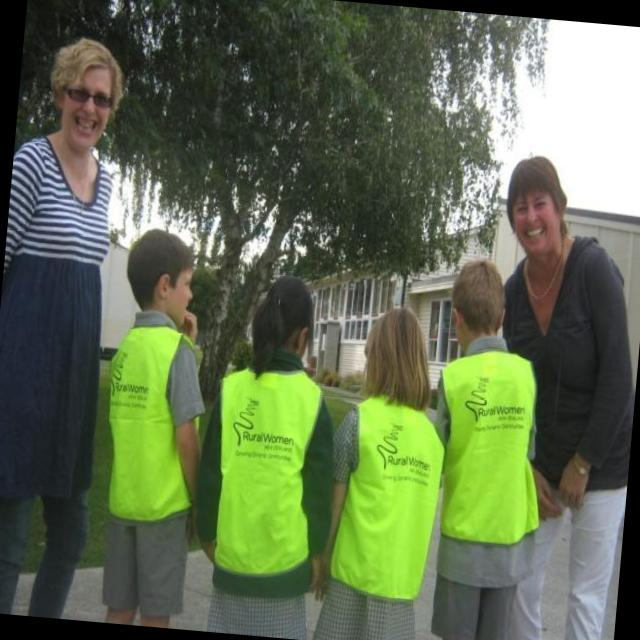safety_vest: (402, 332, 551, 604), (195, 358, 338, 588), (85, 314, 204, 576), (324, 384, 454, 610)
